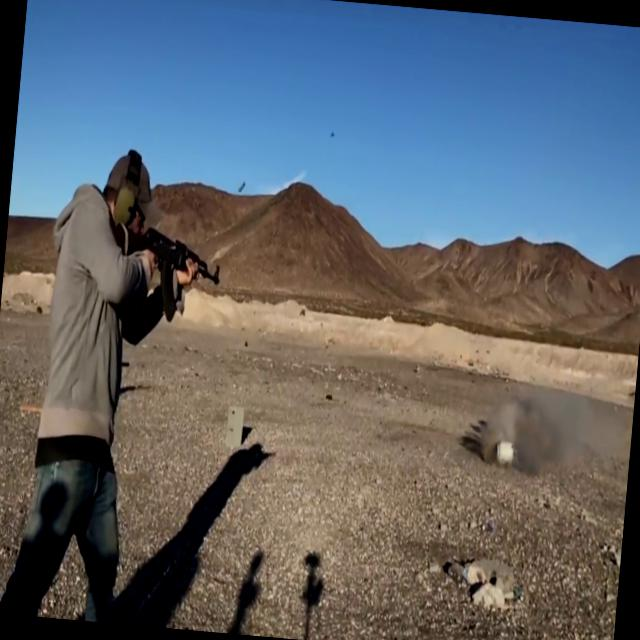long weapon: (101, 213, 227, 327)
